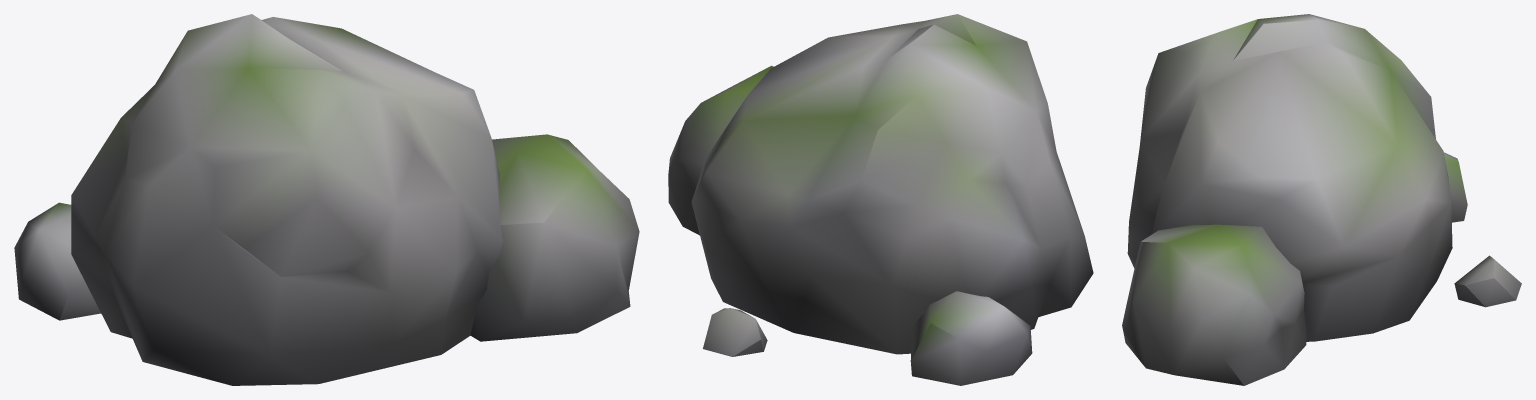
Rendered from rock-whole-low.glb.
3 views of the same model, side by side, from view 1: azimuth 30°, elevation 25°; view 2: azimuth 150°, elevation 25°; view 3: azimuth 270°, elevation 25° (orthographic). The views are drawn at different scales.
Visible parts, largest first — view 1: 0_rock; view 2: 0_rock; view 3: 0_rock.
Boxes of the visible parts, x1,y1,x2,y2 form: 0_rock: [14, 14, 639, 385]; 0_rock: [668, 14, 1093, 385]; 0_rock: [1122, 14, 1521, 385].
Size of the model in its own units: 2.48 by 1.35 by 2.05.
